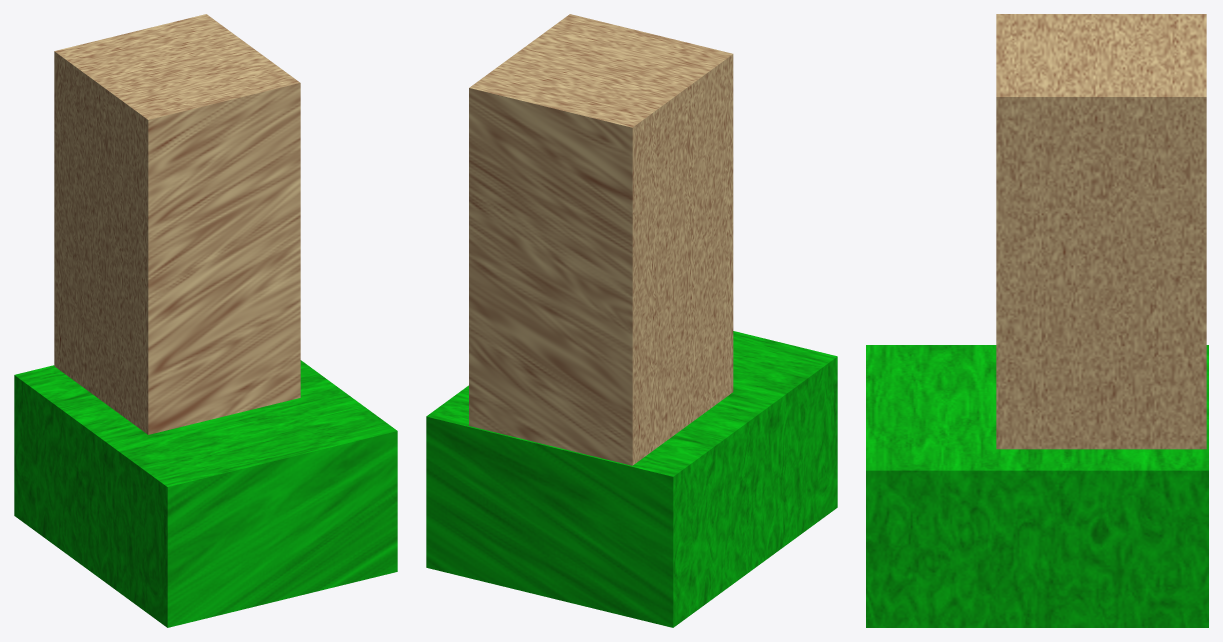
File: bossLeftFeet.obj
3 views of the same model, side by side, from view 1: azimuth 30°, elevation 25°; view 2: azimuth 150°, elevation 25°; view 3: azimuth 270°, elevation 25° (orthographic). The views are drawn at different scales.
Parts seen in each view (by area): view 1: bossLeftFeet; view 2: bossLeftFeet; view 3: bossLeftFeet.
Part boxes in pixels (x1,y1,x2,y2): bossLeftFeet: [14, 14, 397, 627]; bossLeftFeet: [426, 14, 837, 627]; bossLeftFeet: [866, 14, 1208, 627].
Size of the model in its own units: 0.65 by 1.23 by 0.75.
Materials: 1 (1 with a texture image).
